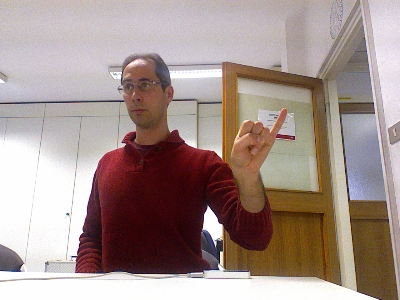小指: (228, 106, 288, 172)
